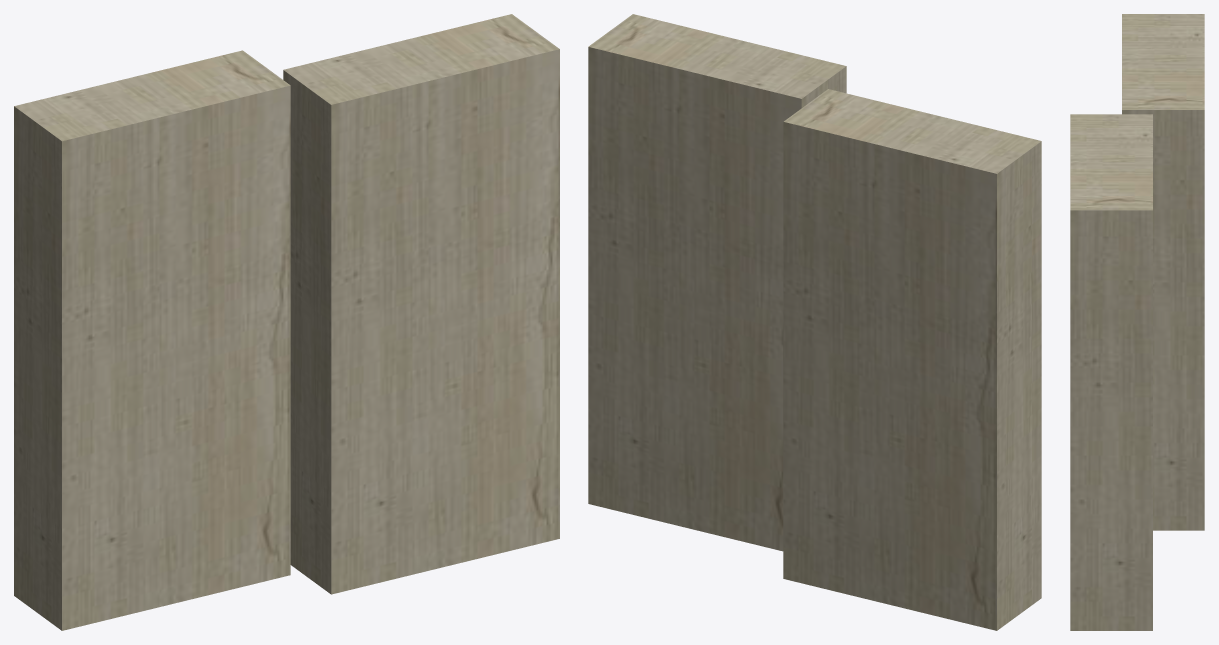
File: bunker_door_shielded.glb
3 renders of one model, left to right at view 1: azimuth 30°, elevation 25°; view 2: azimuth 150°, elevation 25°; view 3: azimuth 270°, elevation 25°, orthographic. The views are drawn at different scales.
Parts seen in each view (by area): view 1: bunker_door; view 2: bunker_door; view 3: bunker_door.
Part boxes in pixels (<box>): bunker_door: <box>14,14,559,630</box>; bunker_door: <box>588,14,1041,630</box>; bunker_door: <box>1070,14,1204,630</box>.
Bounding box in the file's own units: 0.9 × 0.9 × 0.26.
1 material, 1 textured.
